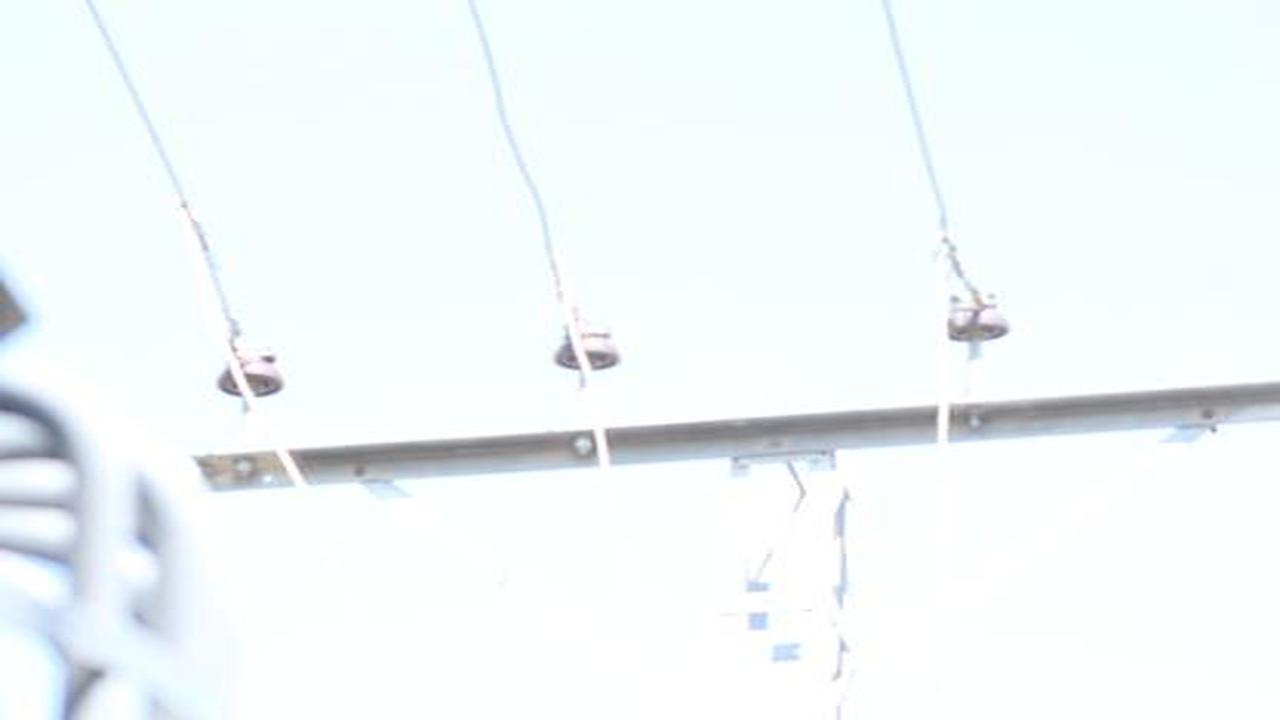insulator_pin: (939, 289, 1014, 350), (549, 319, 623, 378), (215, 344, 287, 401)
